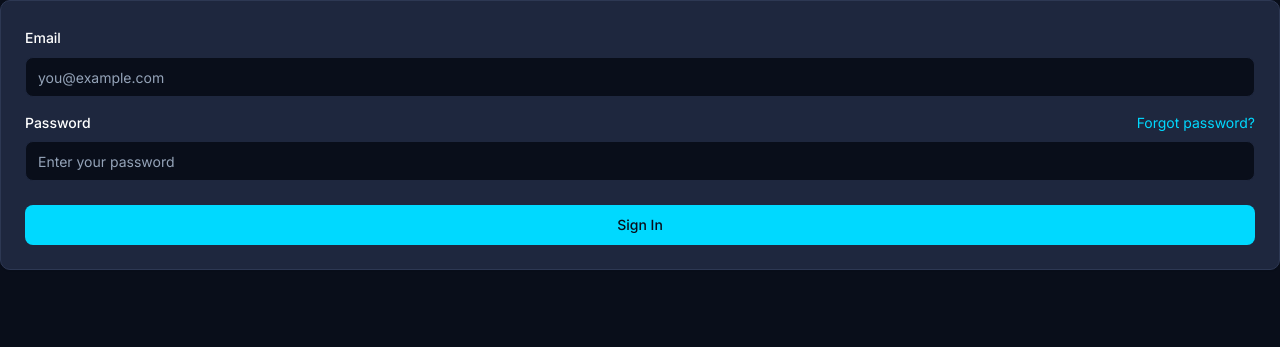
Scenario: LoginForm › clears error when input changes
The width and height of the screenshot is (1280, 347).
Submit with invalid credentials
Type "test@example.com" into the field labelled "Email". click: (640, 77)
box: [25, 57, 1255, 97]
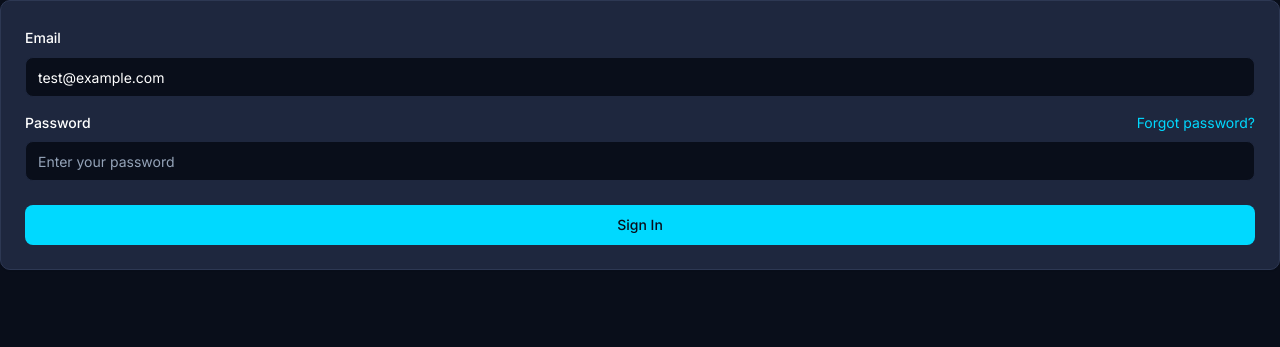
Type "wrongpassword" into the password field labelled "Password". click: (640, 161)
box: [25, 141, 1255, 181]
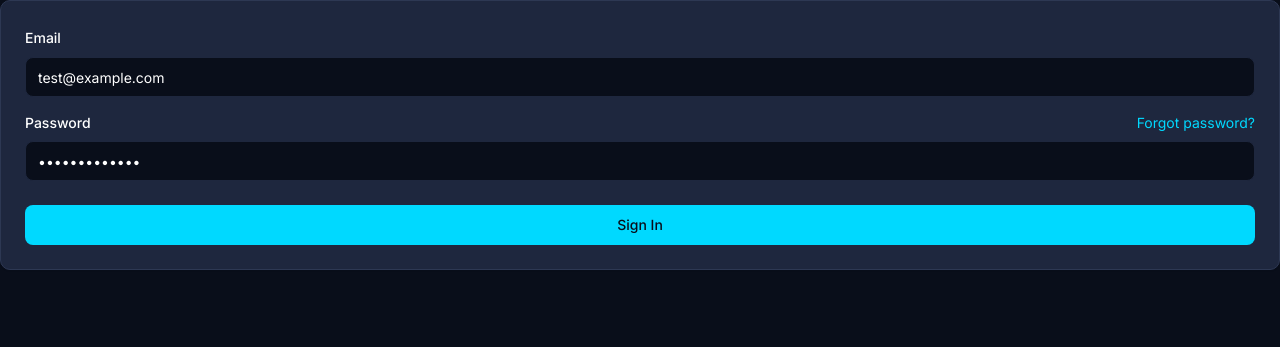
Click the button "Sign In". click: click(640, 225)
box: [25, 205, 1255, 245]
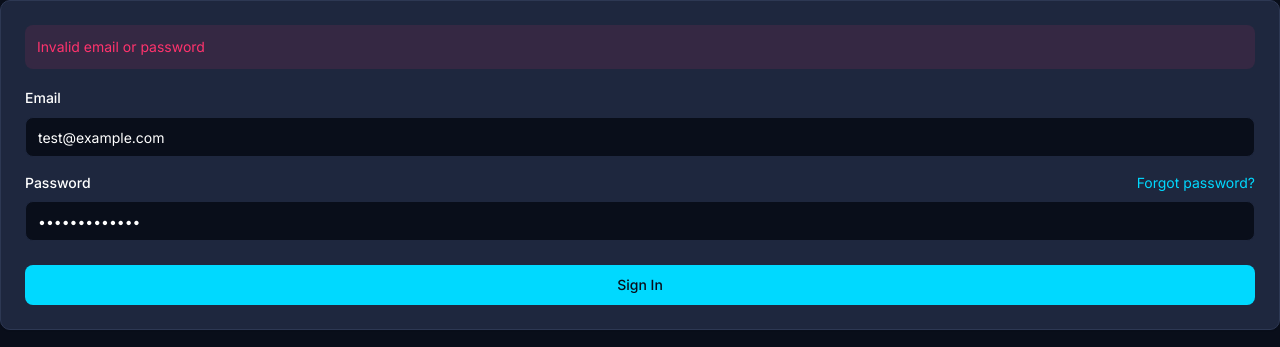
Now the message "Invalid email or password" is shown, box [25, 25, 1255, 69]
Change input should clear error
Replace the text in the field labelled "Email" with "new@example.com". click: (640, 137)
box: [25, 117, 1255, 157]
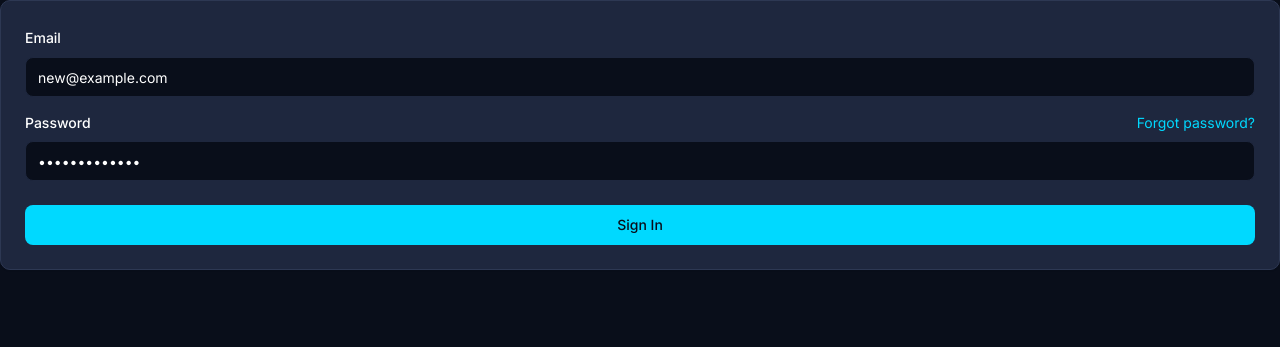
Now the message "Invalid email or password" is gone
